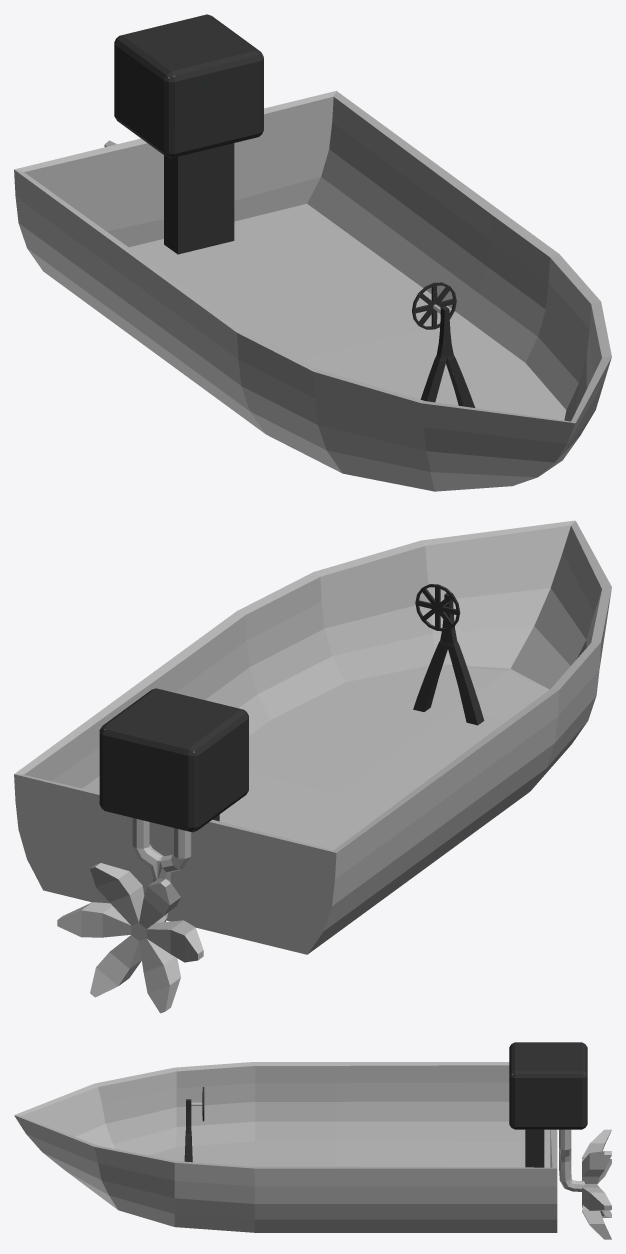
Rendered from Barca_completa.obj.
3 renders of one model, top to bottom at view 1: azimuth 30°, elevation 25°; view 2: azimuth 150°, elevation 25°; view 3: azimuth 270°, elevation 25°, orthographic. The views are drawn at different scales.
Visible parts, largest first — view 1: Barca; view 2: Barca; view 3: Barca.
Boxes of the visible parts, <box> form: Barca: <box>14,14,611,491</box>; Barca: <box>14,520,611,1013</box>; Barca: <box>14,1042,611,1239</box>.
Size of the model in its own units: 9.69 by 7.3 by 22.94.
Materials: 2 (2 with a texture image).
